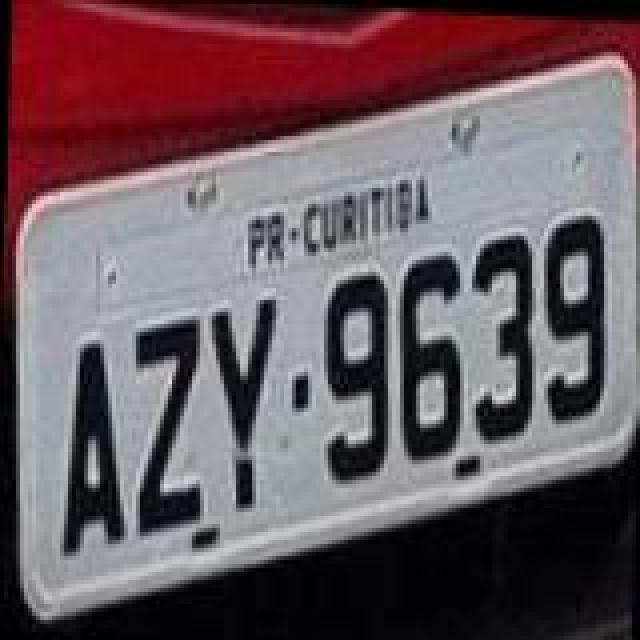3: (466, 226, 542, 446)
6: (394, 244, 470, 464)
9: (314, 264, 394, 484), (538, 210, 614, 426)
A: (58, 336, 134, 564)
Y: (200, 290, 276, 510)
Z: (122, 314, 206, 542)
